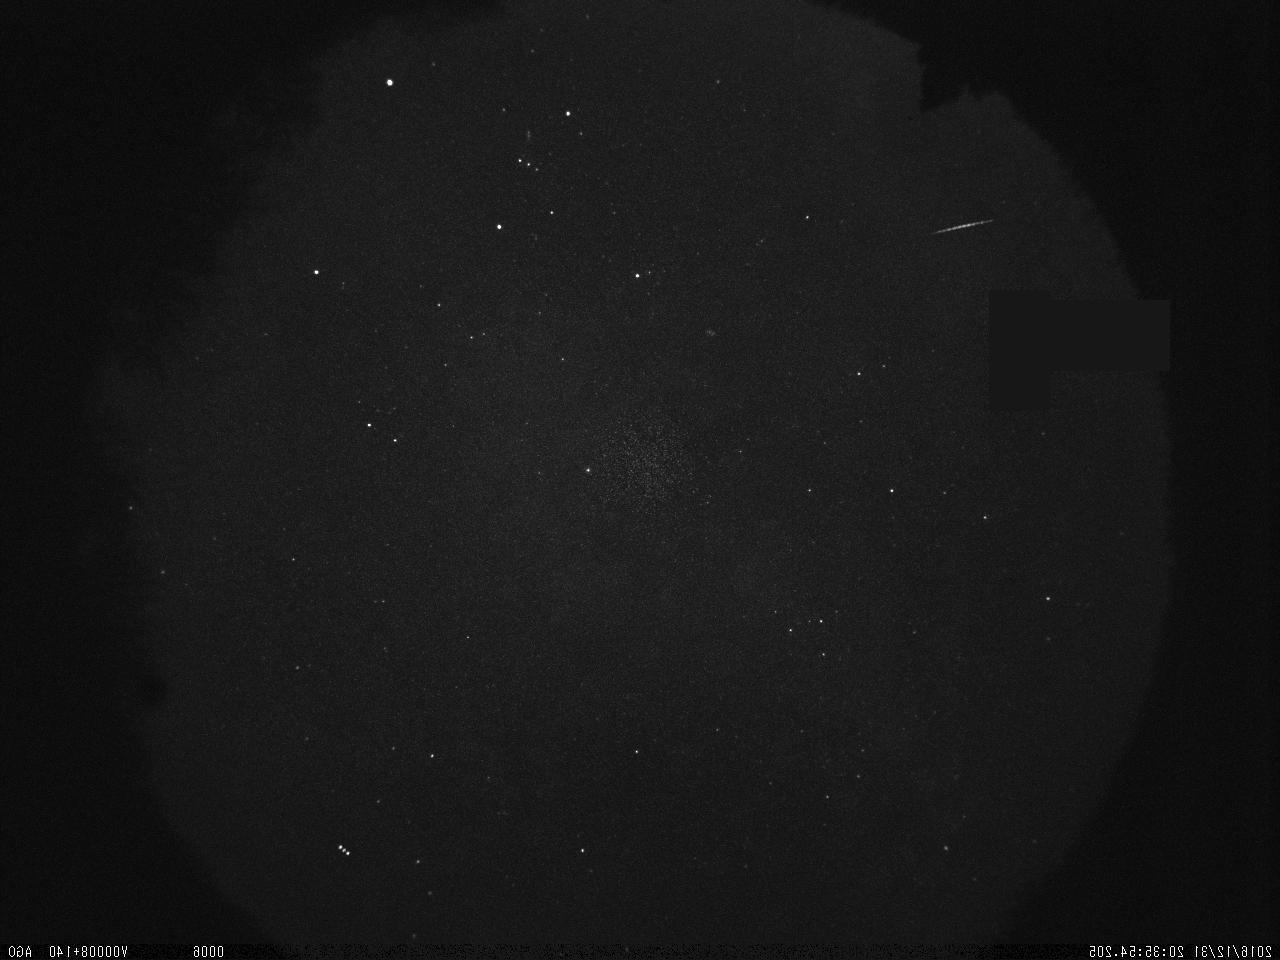meteor: (918, 208, 1008, 249)
